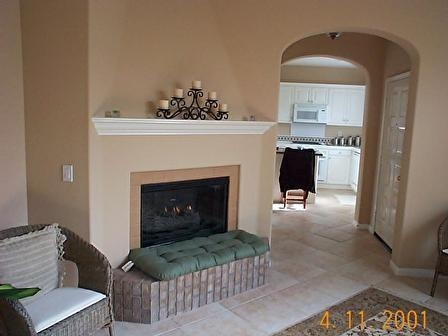chair: (1, 222, 117, 336), (281, 149, 317, 211), (429, 216, 448, 297)
